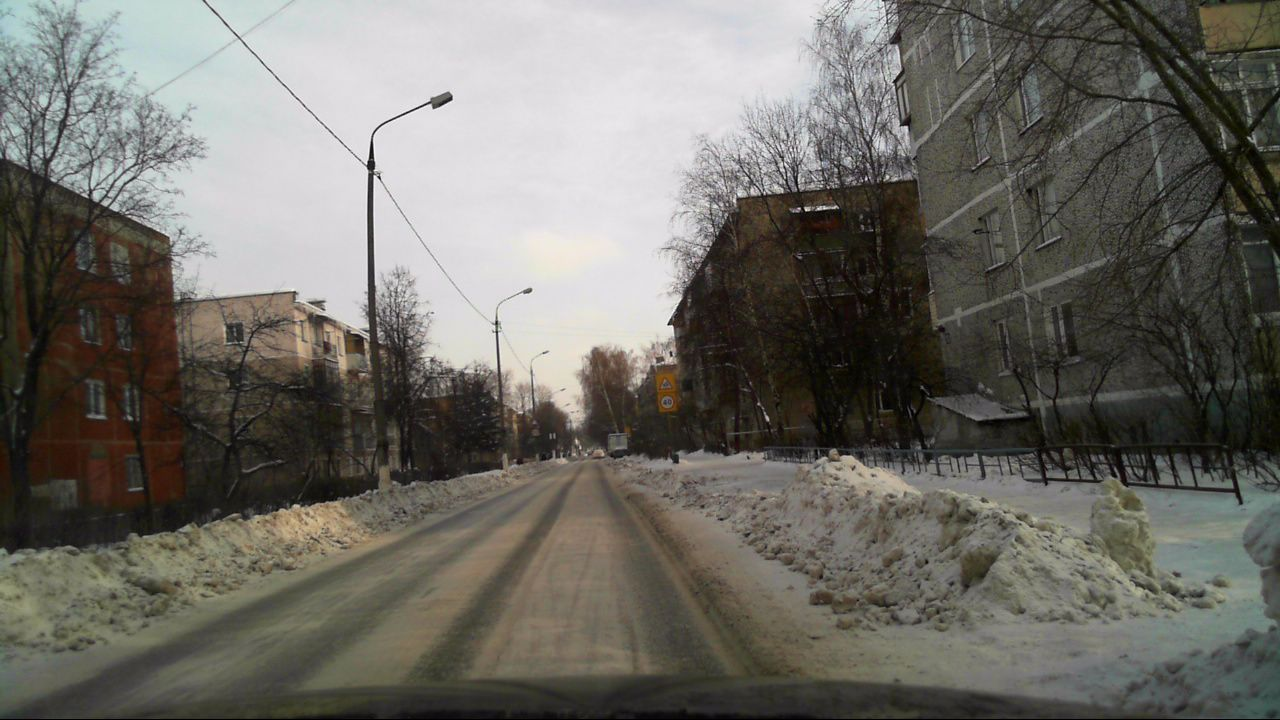speed_warning_40: (657, 392, 677, 411)
